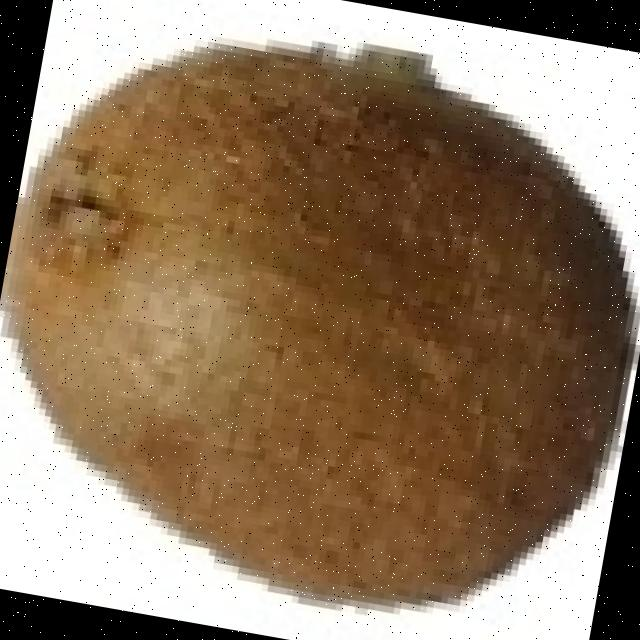kiwi: (0, 60, 617, 613)
